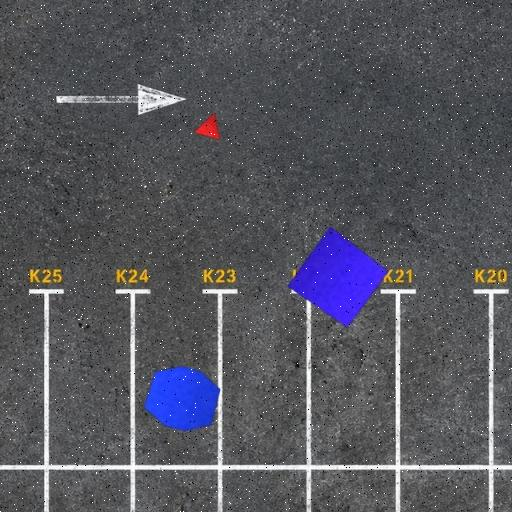BLUE_SQUARE: (286, 226, 390, 329)
